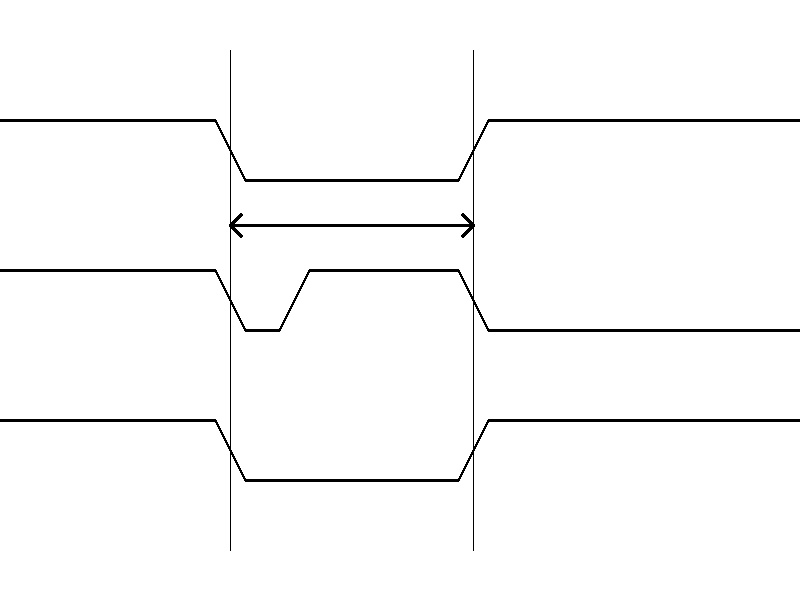double_arrow: (230, 210, 473, 240)
